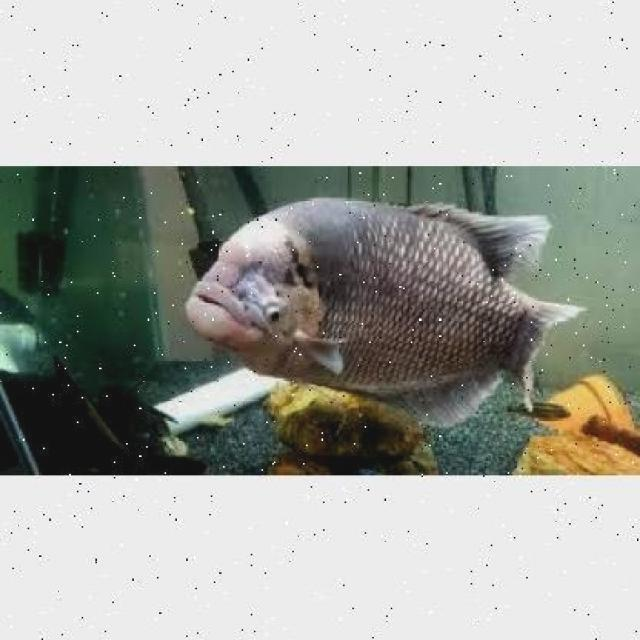gurame: (182, 192, 578, 418)
